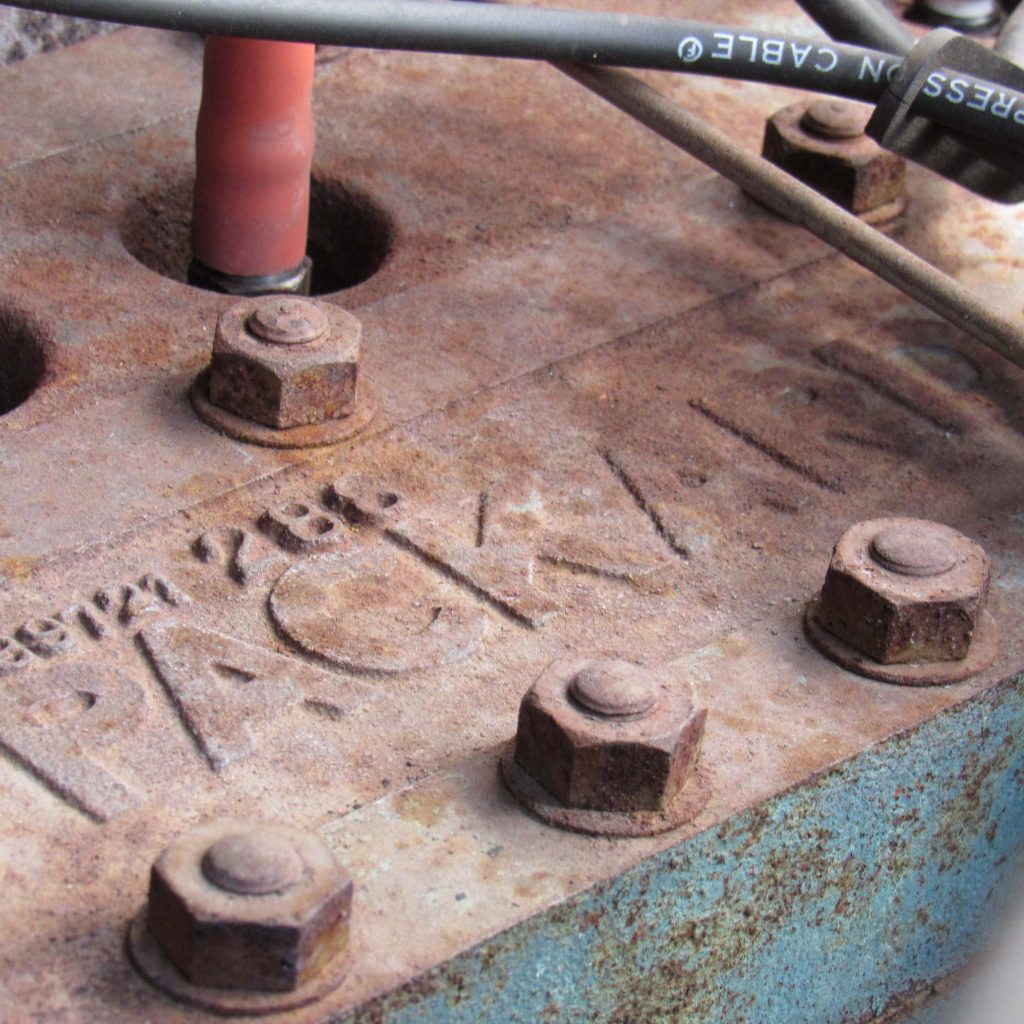bolt_b: (142, 811, 353, 994), (511, 647, 709, 815), (809, 507, 996, 668), (201, 292, 365, 432), (754, 93, 916, 216)
